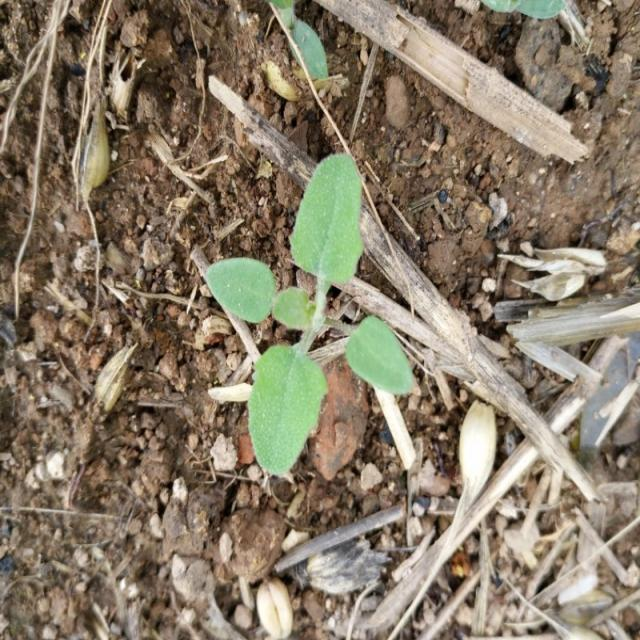ca: (203, 151, 419, 477)
